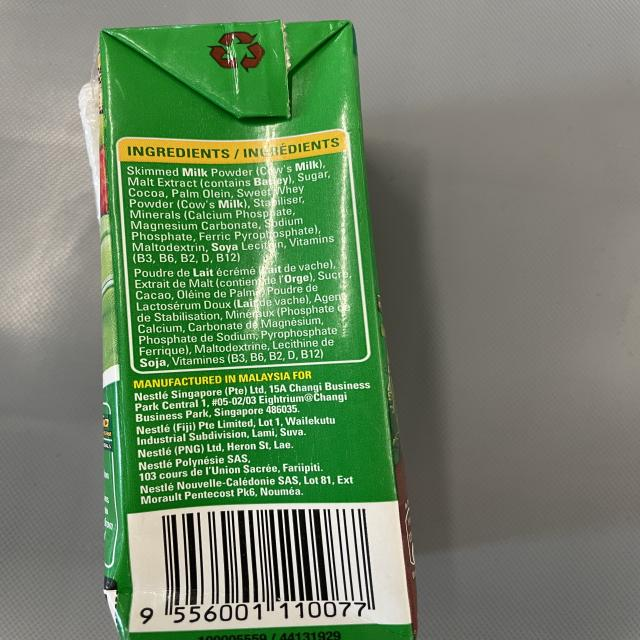object_name: (99, 30, 406, 640)
